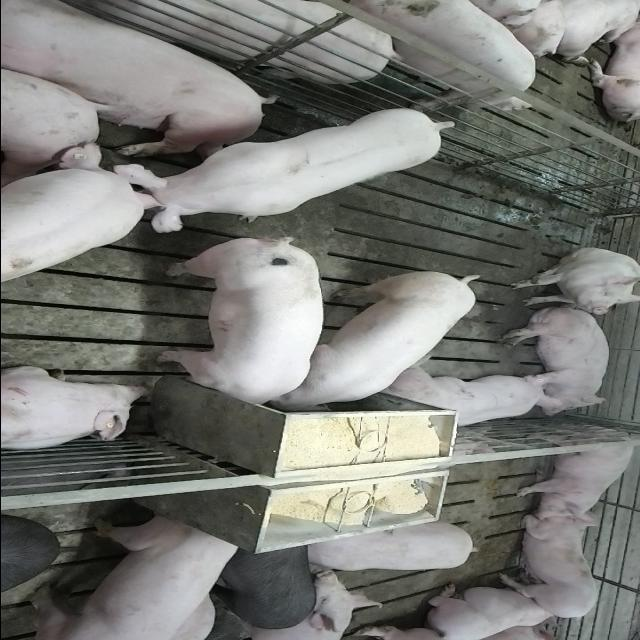Feeding: (268, 266, 481, 412), (156, 232, 326, 408)
Lateral_lying: (1, 5, 272, 158), (499, 304, 612, 418)
Sitting: (506, 248, 639, 316)
Standing: (106, 108, 456, 236), (4, 0, 406, 87), (17, 514, 245, 638), (332, 0, 540, 109), (0, 140, 151, 286), (509, 428, 637, 520), (308, 522, 481, 575), (212, 542, 318, 628)
Sternal_lying: (0, 365, 150, 453), (378, 366, 558, 432), (424, 584, 564, 639)
